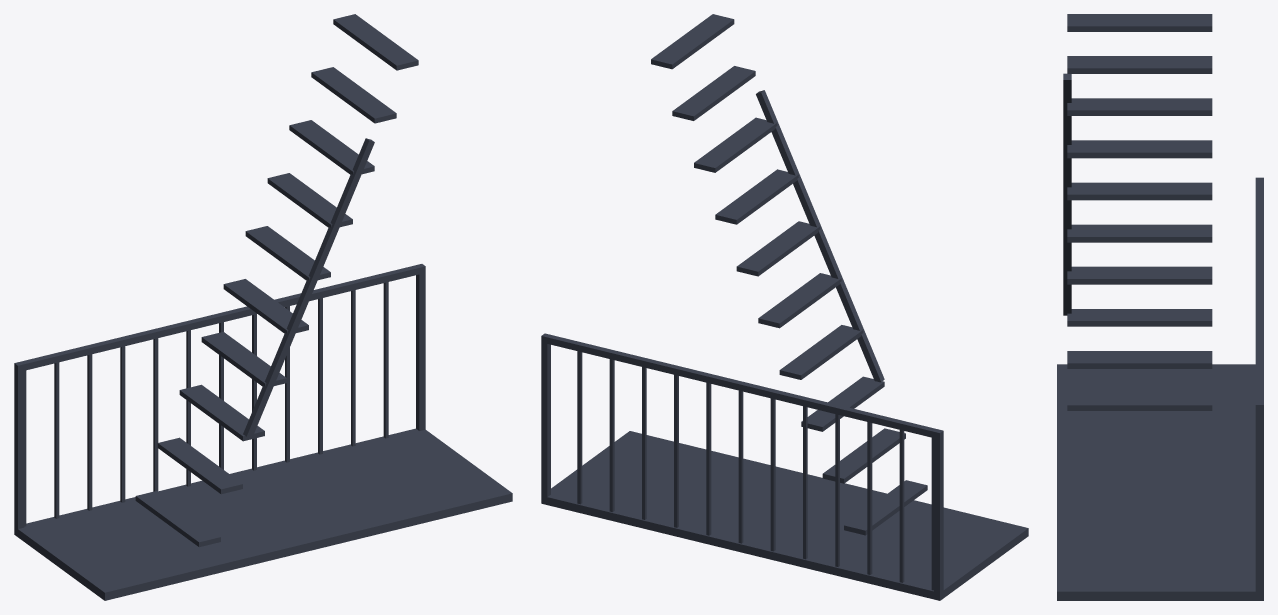
The model's file is escada_incendio.glb.
The picture shows the model from 3 angles, left to right: view 1: azimuth 30°, elevation 25°; view 2: azimuth 150°, elevation 25°; view 3: azimuth 270°, elevation 25°; orthographic projection. The views are drawn at different scales.
Parts seen in each view (by area): view 1: Cube; view 2: Cube; view 3: Cube.
Part boxes in pixels (box(x1,y1,x2,y2)): Cube: box(14, 14, 512, 600); Cube: box(541, 14, 1028, 600); Cube: box(1057, 14, 1263, 600).
Bounding box in the file's own units: 2.6 × 2.8 × 1.
